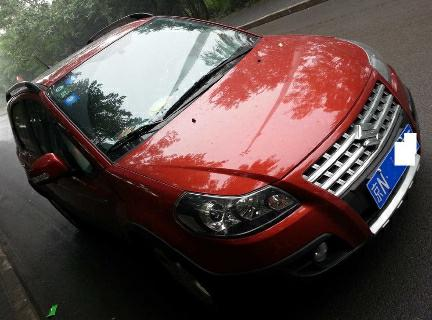铃木-天语SX4: (2, 1, 425, 297)
